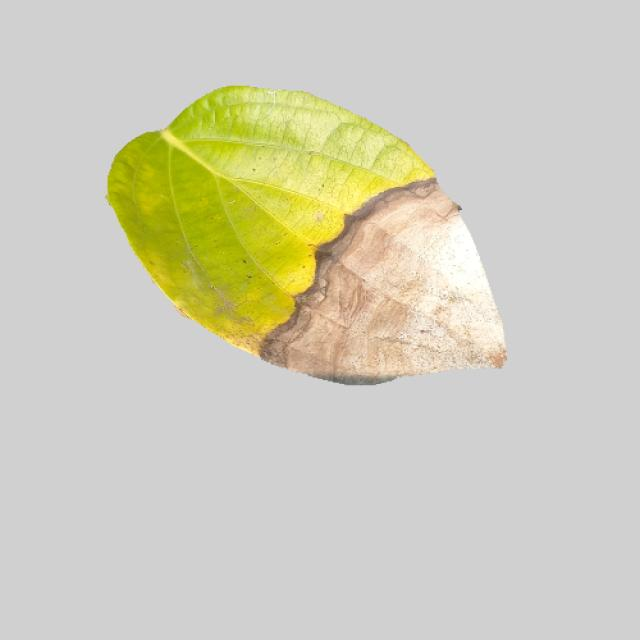leaf-blight: (93, 86, 511, 389)
